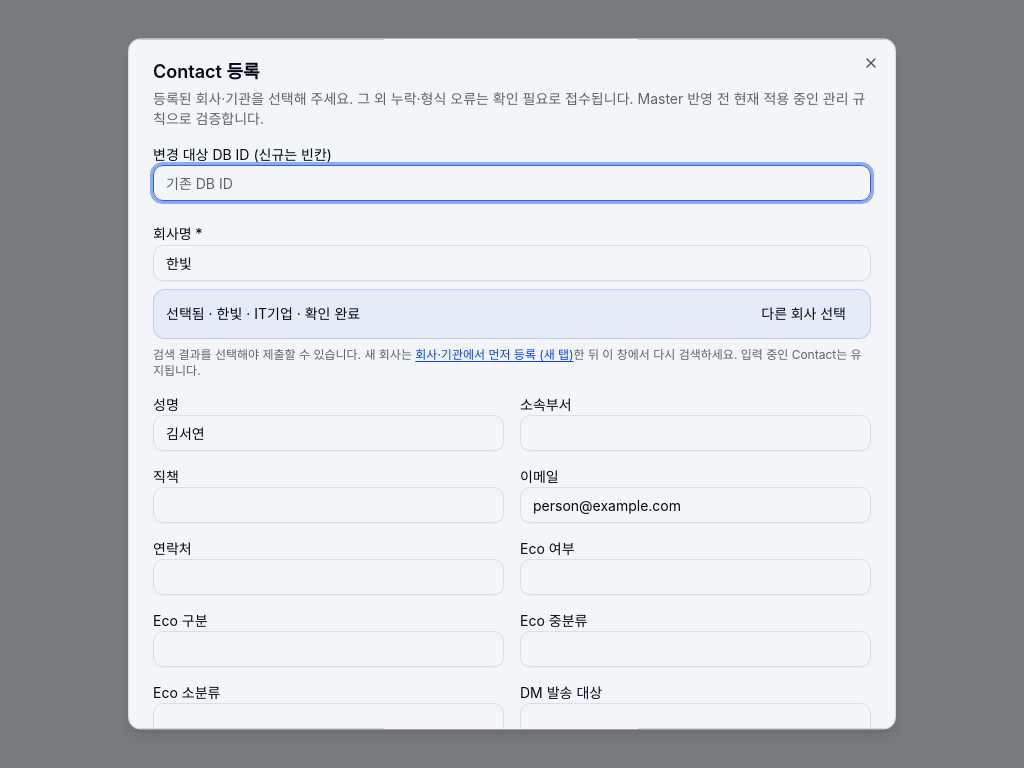
Test: loads an existing relation by ID, but editing the name invalidates selection
Replace the text in the dropdown with "없는회사" at (512, 263), box x1=153 y1=245 x2=871 y2=281
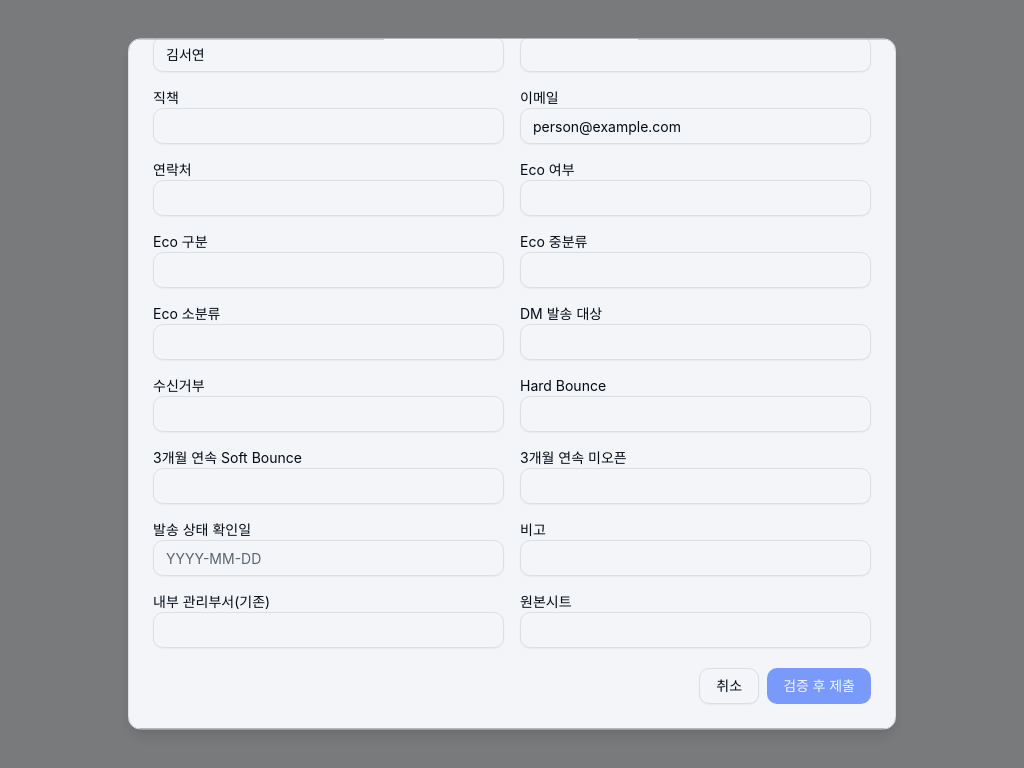
Now the button "검증 후 제출" is disabled, box x1=767 y1=668 x2=871 y2=704
